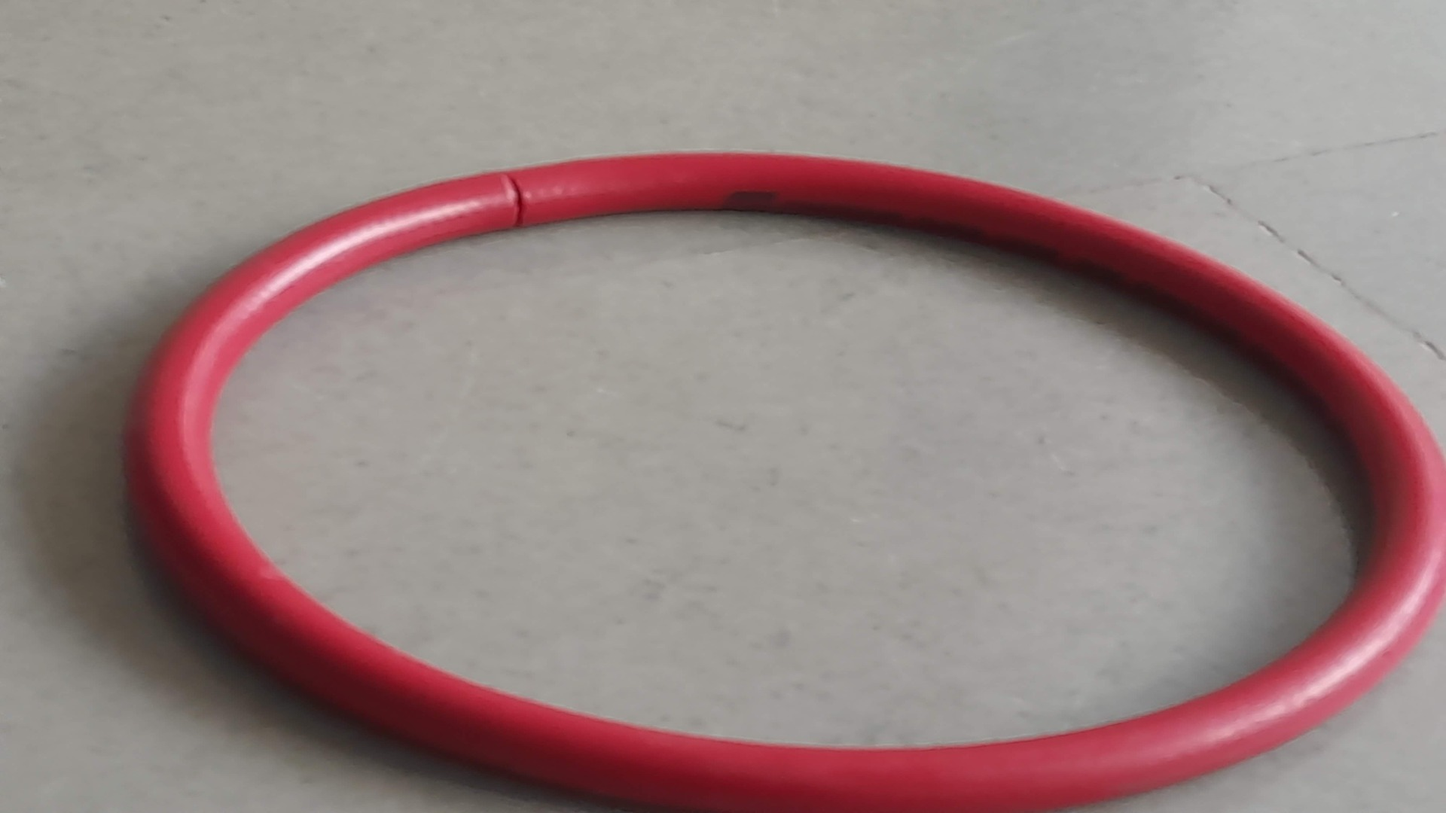Red ring: (130, 152, 1446, 813)
